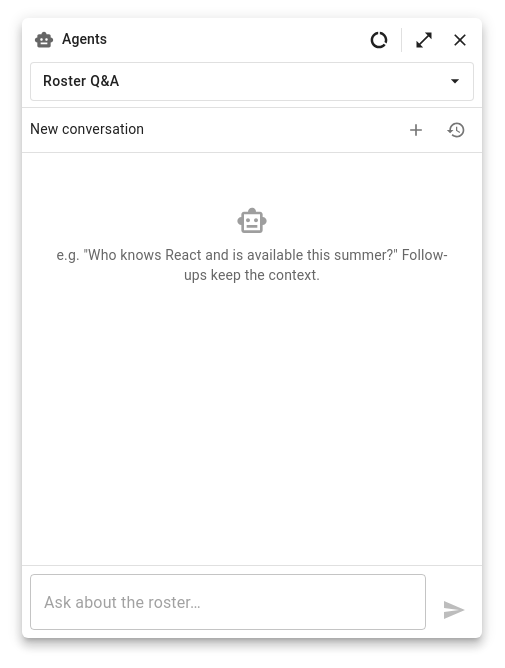
Test: Roster Q&A threading › New conversation clears the transcript and drops the threadId
Type "first question" into the text box with placeholder "Ask about the roster…". click: (228, 602)
box: [44,590,412,614]
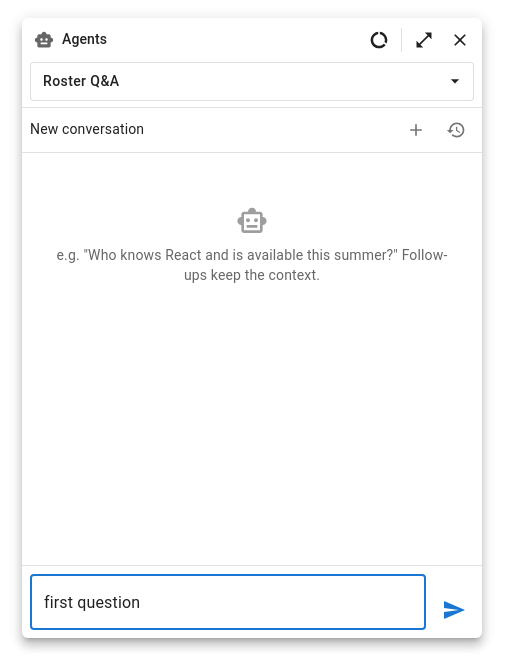
Click the button named "Send". click: (454, 610)
box: [434,590,474,630]
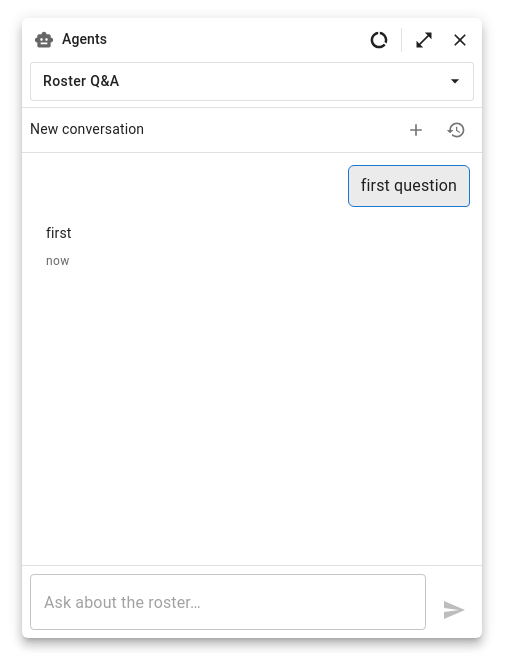
Now the text "first" is shown, box [46,222,72,244]
Click the button named "New conversation". click: (416, 130)
box: [398,112,434,148]
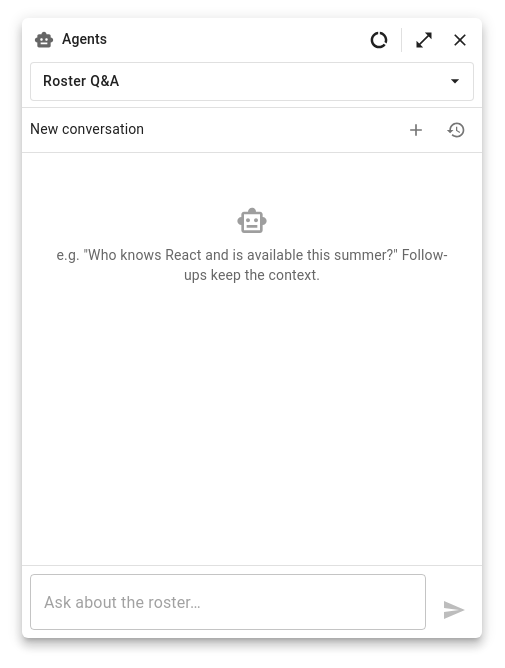
Now the text "first" is gone
Type "brand new question" into the text box with placeholder "Ask about the roster…". click: (228, 602)
box: [44,590,412,614]
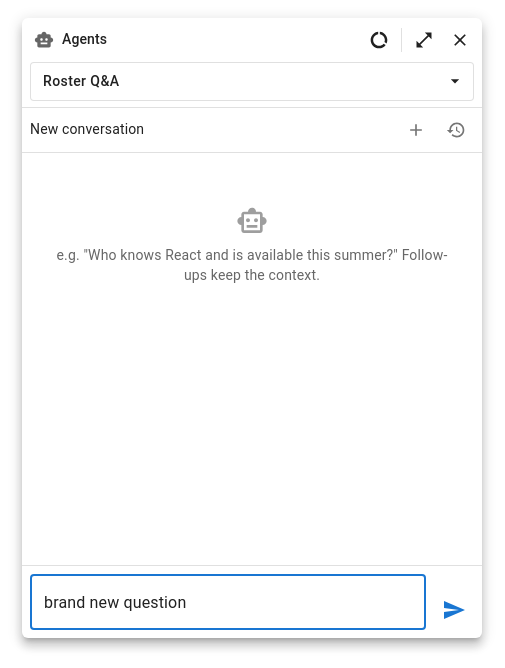
Click the button named "Send". click: (454, 610)
box: [434,590,474,630]
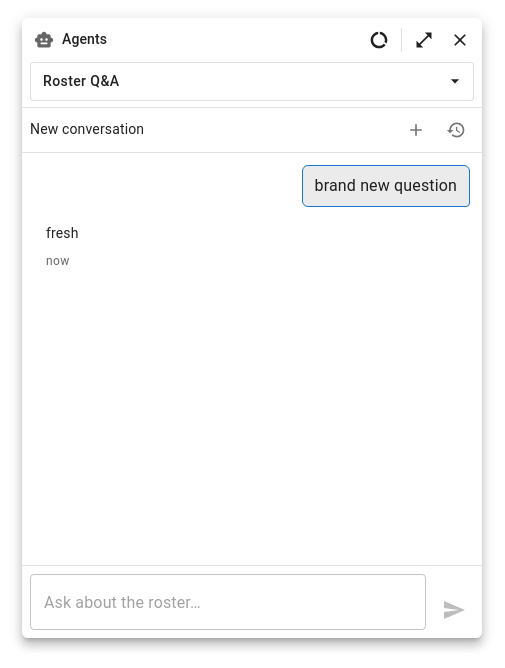
Now the text "fresh" is shown, box [46,222,79,244]
